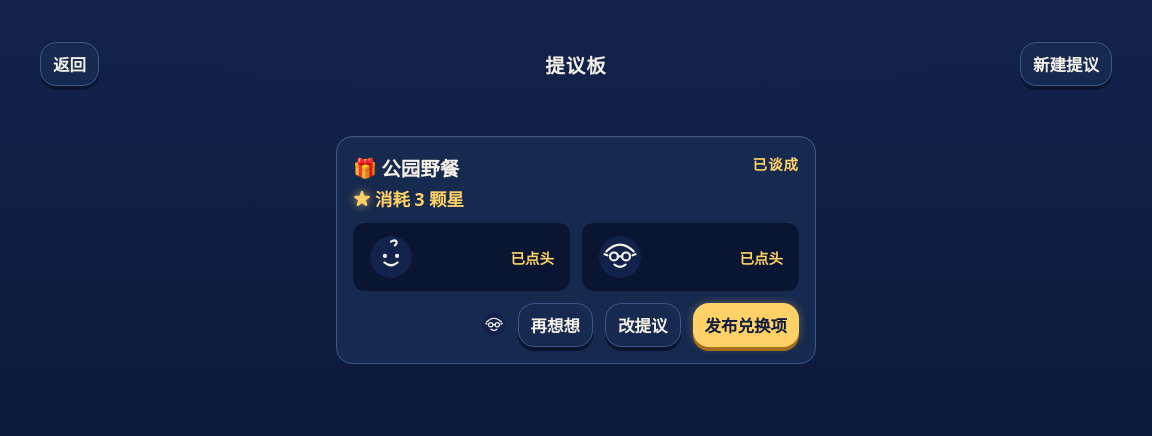
AC-R32-5 表态（#63 单表态钮：文案随状态翻转，点击切换本视角开关） › agreed 提议按钮文案翻转为「再想想」：点击收回 → status 回 discussing、发布按钮与「已谈成」标识消失
What coordinates should you click on to do the following:
click the button with class "stance-btn"
I would click on:
 (555, 325)
Its box is [518, 303, 593, 347].
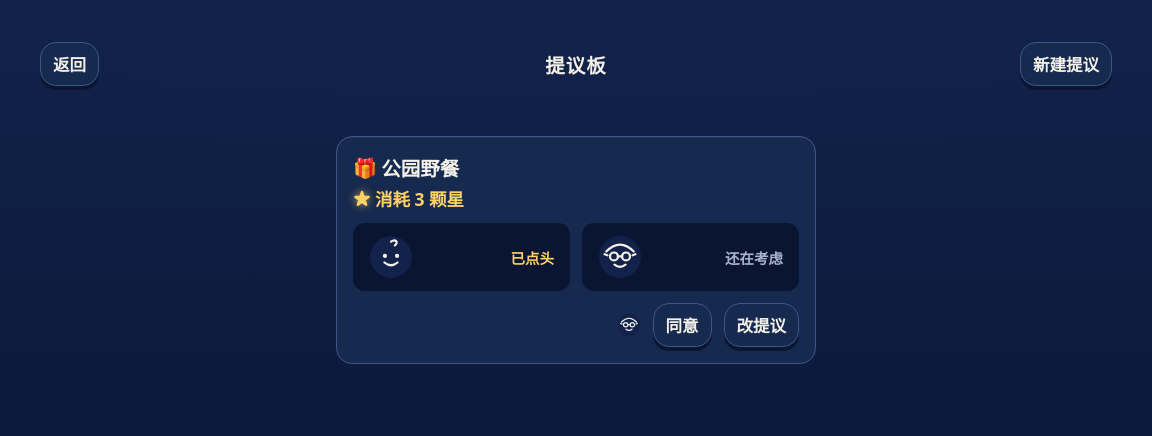
Now the button "发布兑换项" no longer shows "发布兑换项"
Now the text "已谈成" is gone
